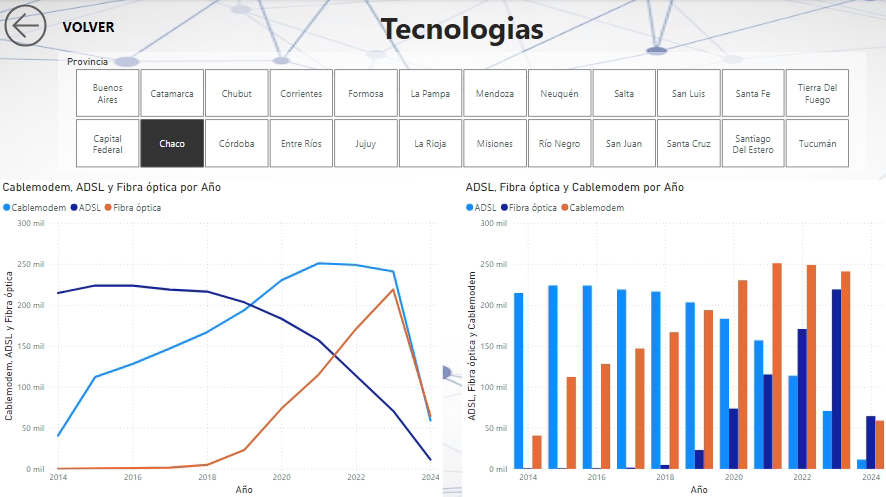

The page's visual inventory and layout, read from the dashboard file:
{"tool":"powerbi","page":{"name":"Tecnologia","canvas":[1280,720],"ordinal":2},"visuals":[{"type":"lineChart","fields":{"Category":["Accesos Por Tecnología.Año"],"Y":["Sum(Accesos Por Tecnología.ADSL)","Sum(Accesos Por Tecnología.Cablemodem)","Sum(Accesos Por Tecnología.Fibra óptica)"]},"box":[0,260.6,639.4,459.4],"z":0},{"type":"clusteredColumnChart","fields":{"Category":["Accesos Por Tecnología.Año"],"Y":["Sum(Accesos Por Tecnología.ADSL)","Sum(Accesos Por Tecnología.Cablemodem)","Sum(Accesos Por Tecnología.Fibra óptica)"]},"box":[666.7,260.6,613.4,459.4],"z":1000},{"type":"slicer","fields":{"Values":["Accesos Por Tecnología.Provincia"]},"box":[85,76.3,1163.5,172.8],"z":2000},{"type":"actionButton","box":[0,0,169.9,76.3],"z":3000},{"type":"textbox","box":[322.6,7.2,688.3,69.1],"z":4000}]}

Visuals, with their boxes in screenshot pixels (x1, y1, x2, y2), scaled from the page's 1280x720 canvas onto the 886x497 screenshot:
lineChart - Accesos Por Tecnología.Año x Sum(Accesos Por Tecnología.ADSL): box(0, 180, 443, 496)
clusteredColumnChart - Accesos Por Tecnología.Año x Sum(Accesos Por Tecnología.ADSL): box(461, 180, 885, 496)
slicer - Accesos Por Tecnología.Provincia: box(59, 53, 864, 172)
actionButton: box(0, 0, 118, 53)
textbox: box(223, 5, 700, 53)
